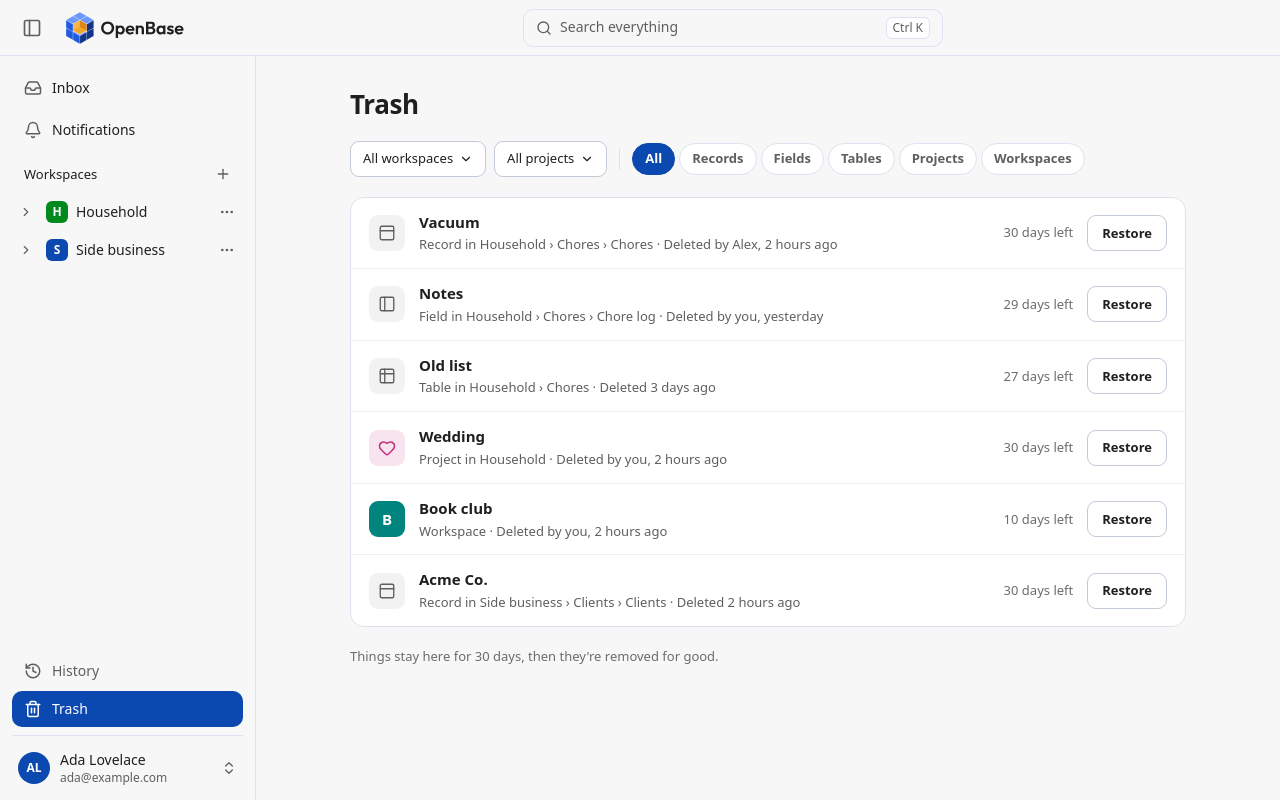
Trash page › keeps the item and says so when restoring fails
Click the button with aria-label "Restore Old list". click: {"x": 1127, "y": 376}
box: [1087, 358, 1167, 394]
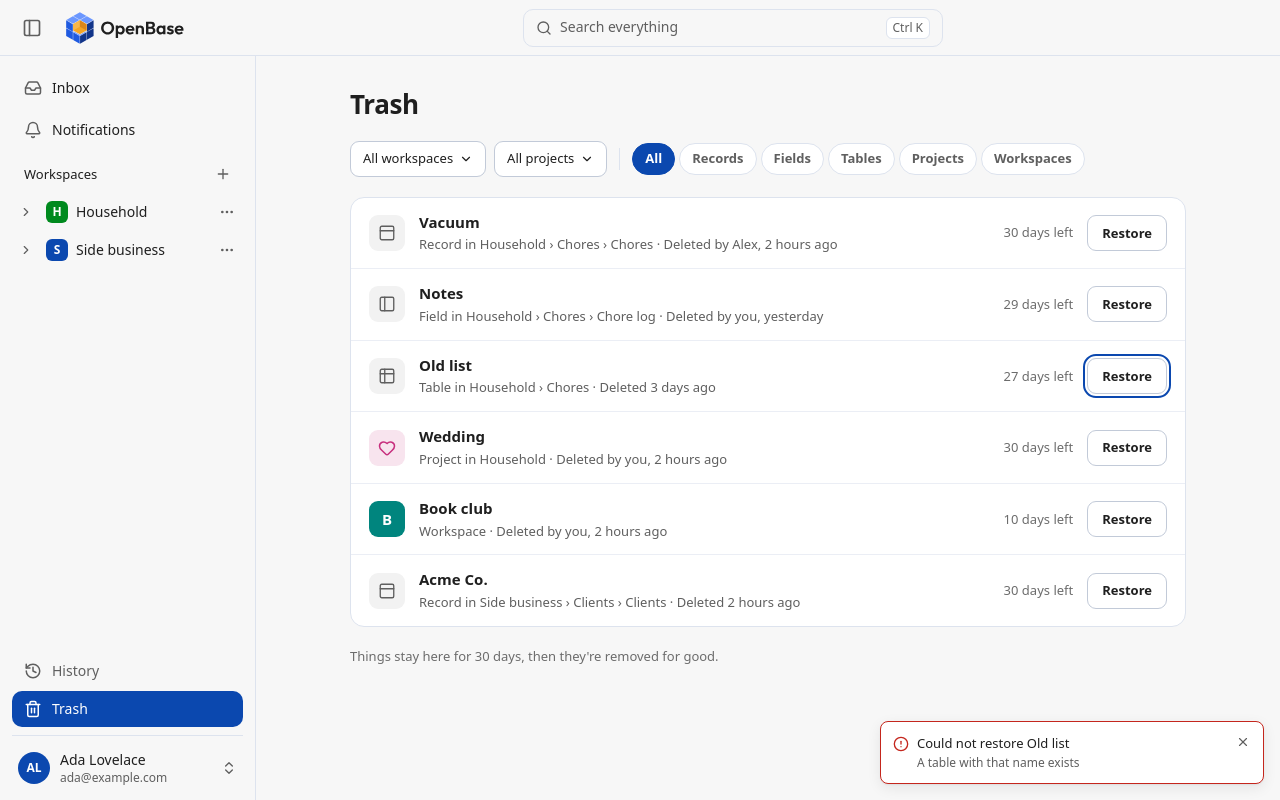
expect the list item "Old list" is shown: met, box [419, 355, 472, 375]
expect the text "Could not restore Old list" is shown: met, box [917, 734, 1069, 752]
